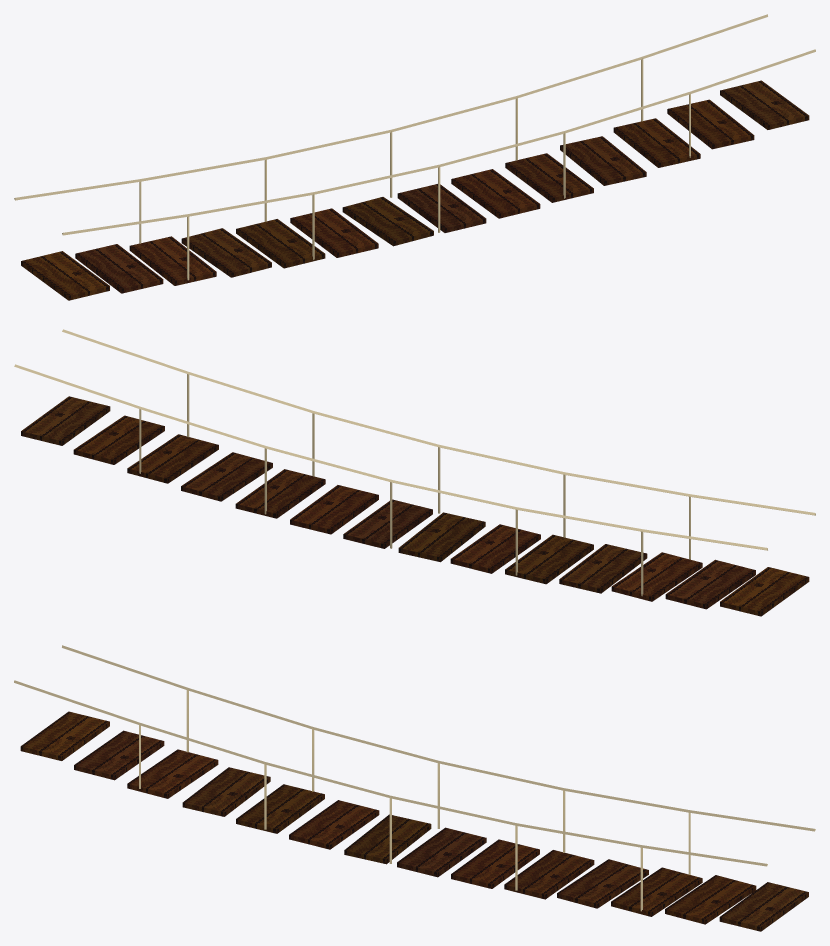
Rendered from rope_bridge.glb.
3 renders of one model, top to bottom at view 1: azimuth 30°, elevation 25°; view 2: azimuth 150°, elevation 25°; view 3: azimuth 330°, elevation 25°, orthographic.
Parts seen in each view (by area): view 1: rope_bridge; view 2: rope_bridge; view 3: rope_bridge.
Boxes of the visible parts, x1,y1,x2,y2 form: rope_bridge: (14,14,815,300); rope_bridge: (14,329,815,616); rope_bridge: (14,645,815,931).
Bounding box in the file's own units: 10 × 1.2 × 1.13.
Materials: 2 (1 with a texture image).
